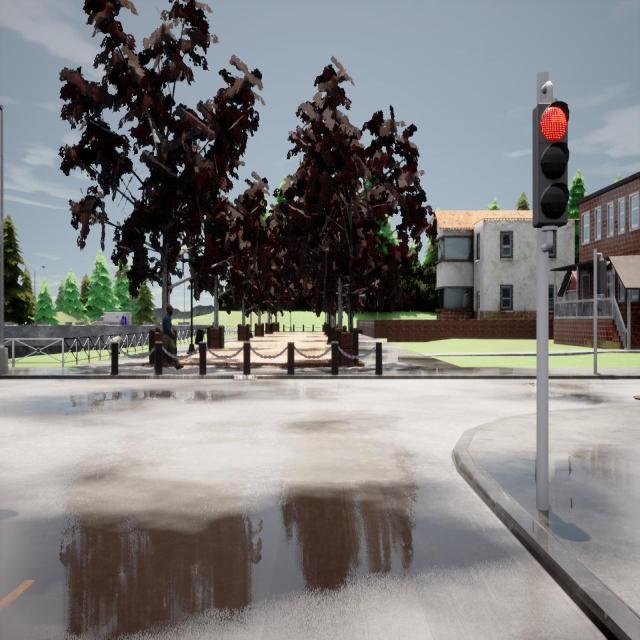Pedestrian: (158, 305, 177, 369)
Vehicle: (91, 311, 132, 326)
traffic_light: (533, 100, 570, 228), (597, 261, 611, 294)
